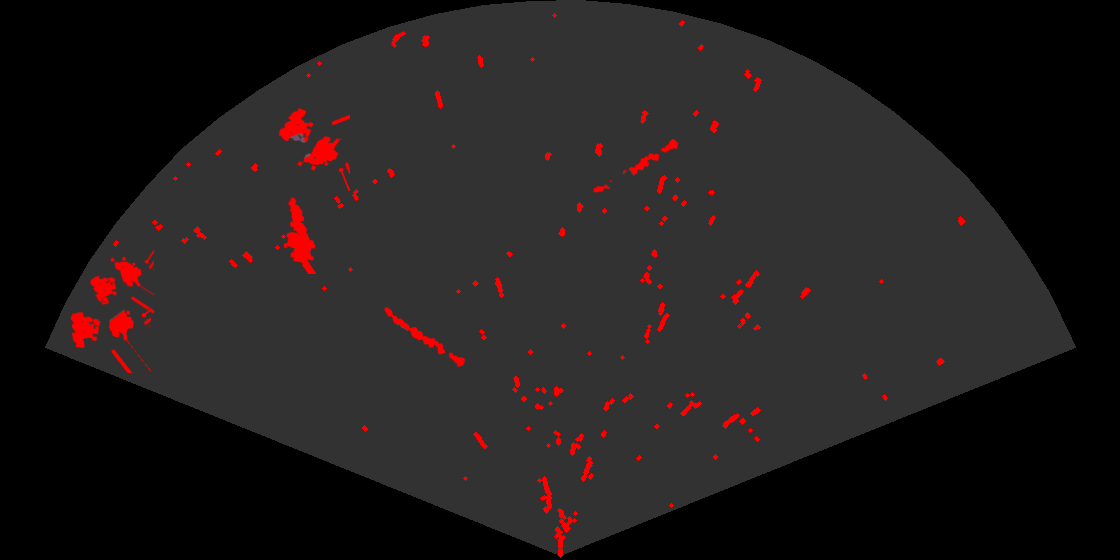cage: (69, 296, 151, 373), (277, 106, 350, 191), (88, 248, 154, 315)
chain: (383, 306, 467, 368), (592, 137, 680, 194)
frogman: (282, 196, 318, 274)
